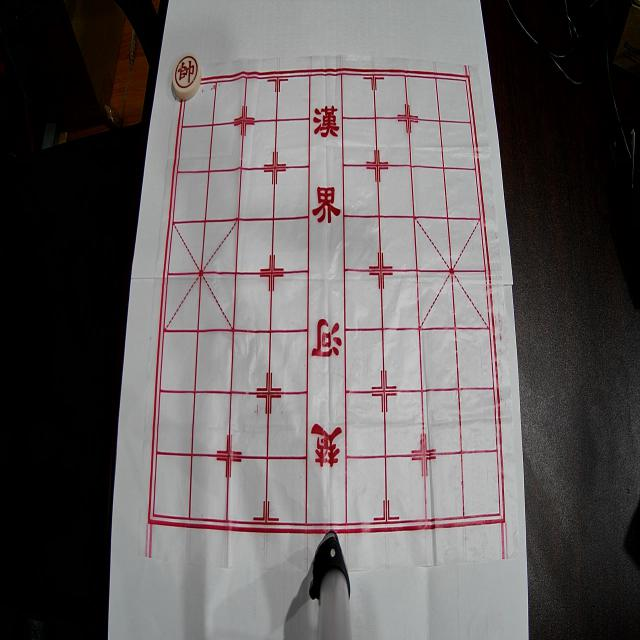red-general: (172, 52, 202, 100)
